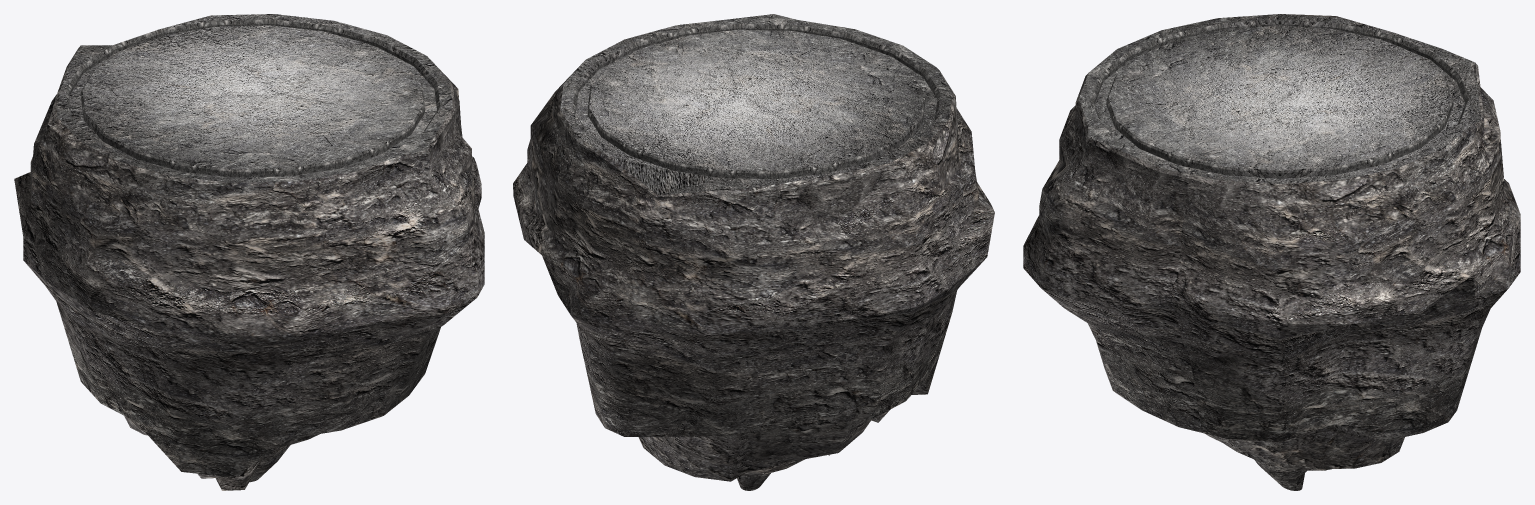
Rendered from FloatingRock_004.fbx.
The picture shows the model from 3 angles, left to right: view 1: azimuth 30°, elevation 25°; view 2: azimuth 150°, elevation 25°; view 3: azimuth 270°, elevation 25°; orthographic projection. The views are drawn at different scales.
Visible parts, largest first — view 1: FloatingRock_004; view 2: FloatingRock_004; view 3: FloatingRock_004.
Boxes of the visible parts, left/top/right/bottom form: FloatingRock_004: left=14, top=14, right=484, bottom=490; FloatingRock_004: left=513, top=14, right=994, bottom=490; FloatingRock_004: left=1023, top=14, right=1520, bottom=490.
Size of the model in its own units: 71.44 by 62.18 by 71.88.
